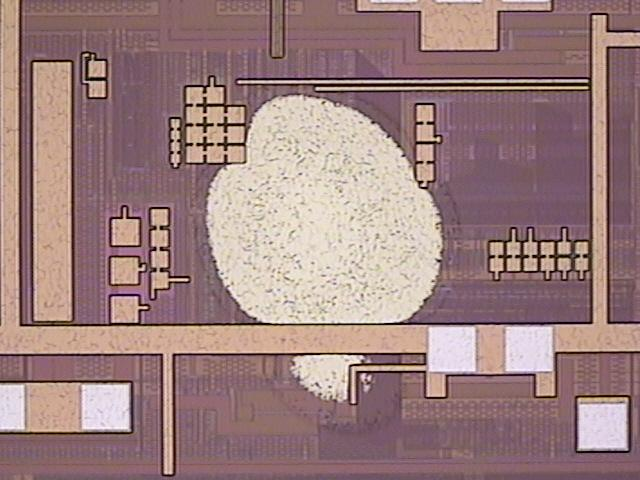BLOCK ETCH: (191, 84, 461, 437)
